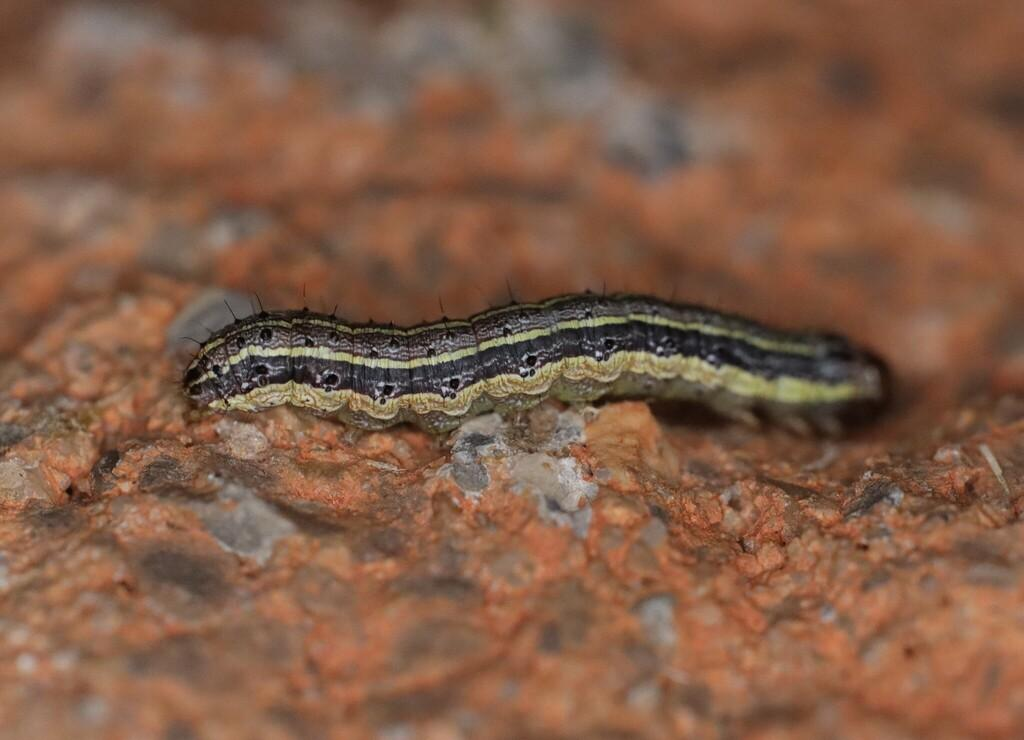caterpillars: (114, 217, 962, 489)
